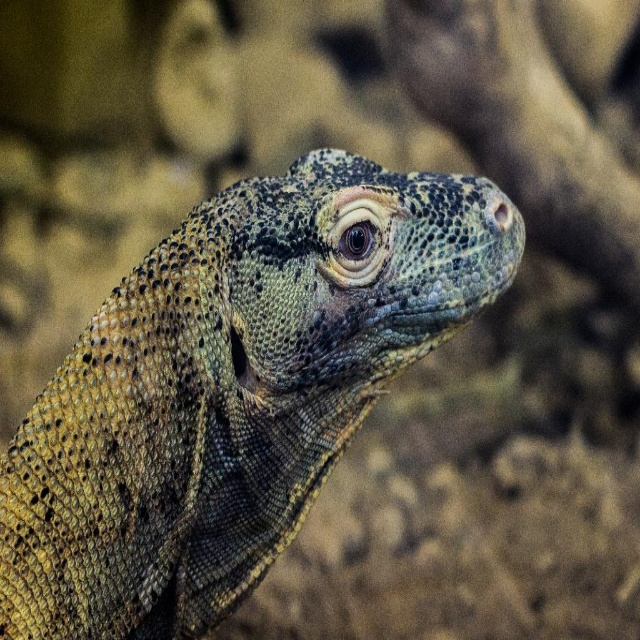Lizard: (0, 148, 526, 640)
